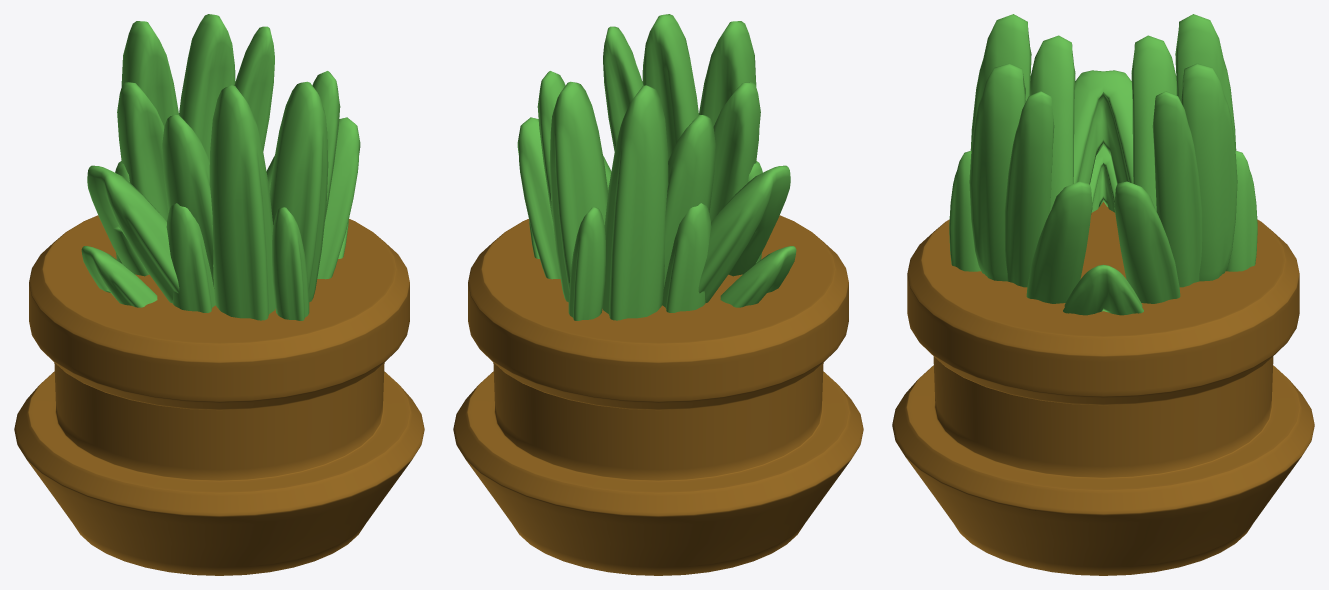
The model's file is pot.FBX.
3 views of the same model, side by side, from view 1: azimuth 30°, elevation 25°; view 2: azimuth 150°, elevation 25°; view 3: azimuth 270°, elevation 25° (orthographic). The views are drawn at different scales.
Parts seen in each view (by area): view 1: Cylinder001; view 2: Cylinder001; view 3: Cylinder001.
Boxes of the visible parts, left/top/right/bottom form: Cylinder001: left=14, top=14, right=424, bottom=575; Cylinder001: left=453, top=14, right=863, bottom=575; Cylinder001: left=892, top=14, right=1314, bottom=575.
Bounding box in the file's own units: 227 × 287 × 227.
